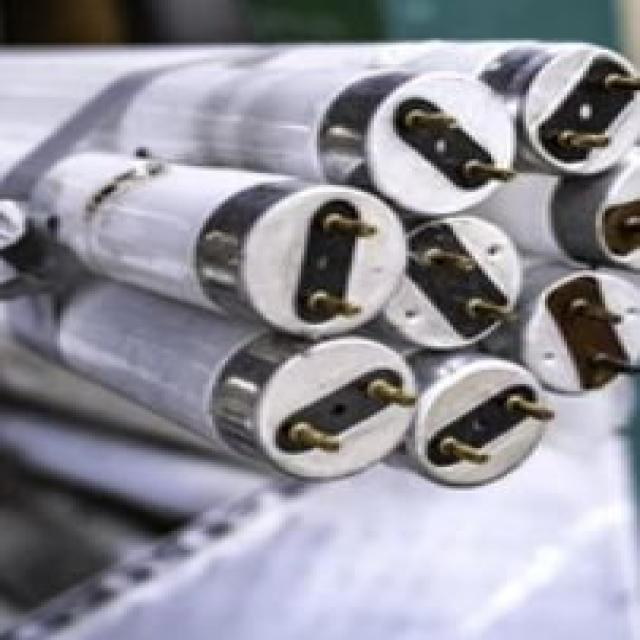electronic: (0, 36, 637, 488), (26, 147, 406, 339)
